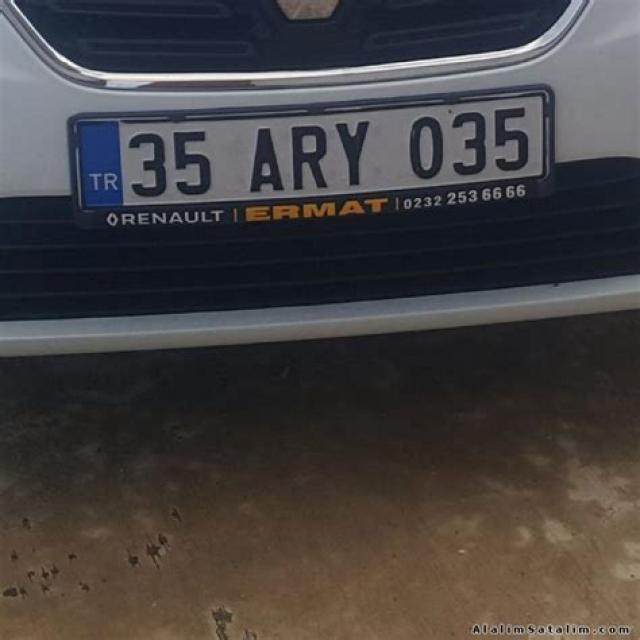plate: (67, 84, 560, 236)
